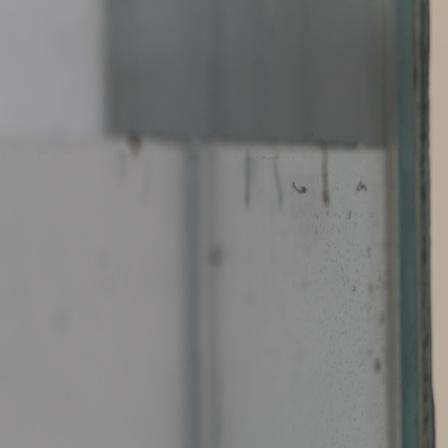Jentik-Nyamuk: (288, 177, 313, 198)
